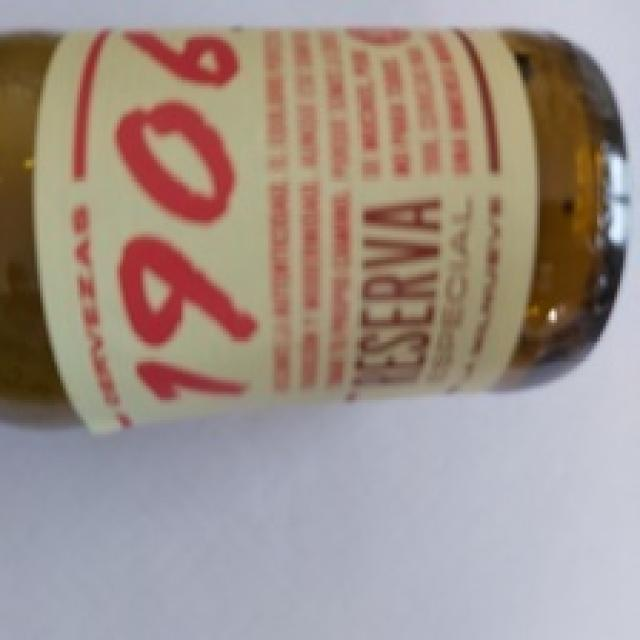Glass: (0, 29, 629, 432)
